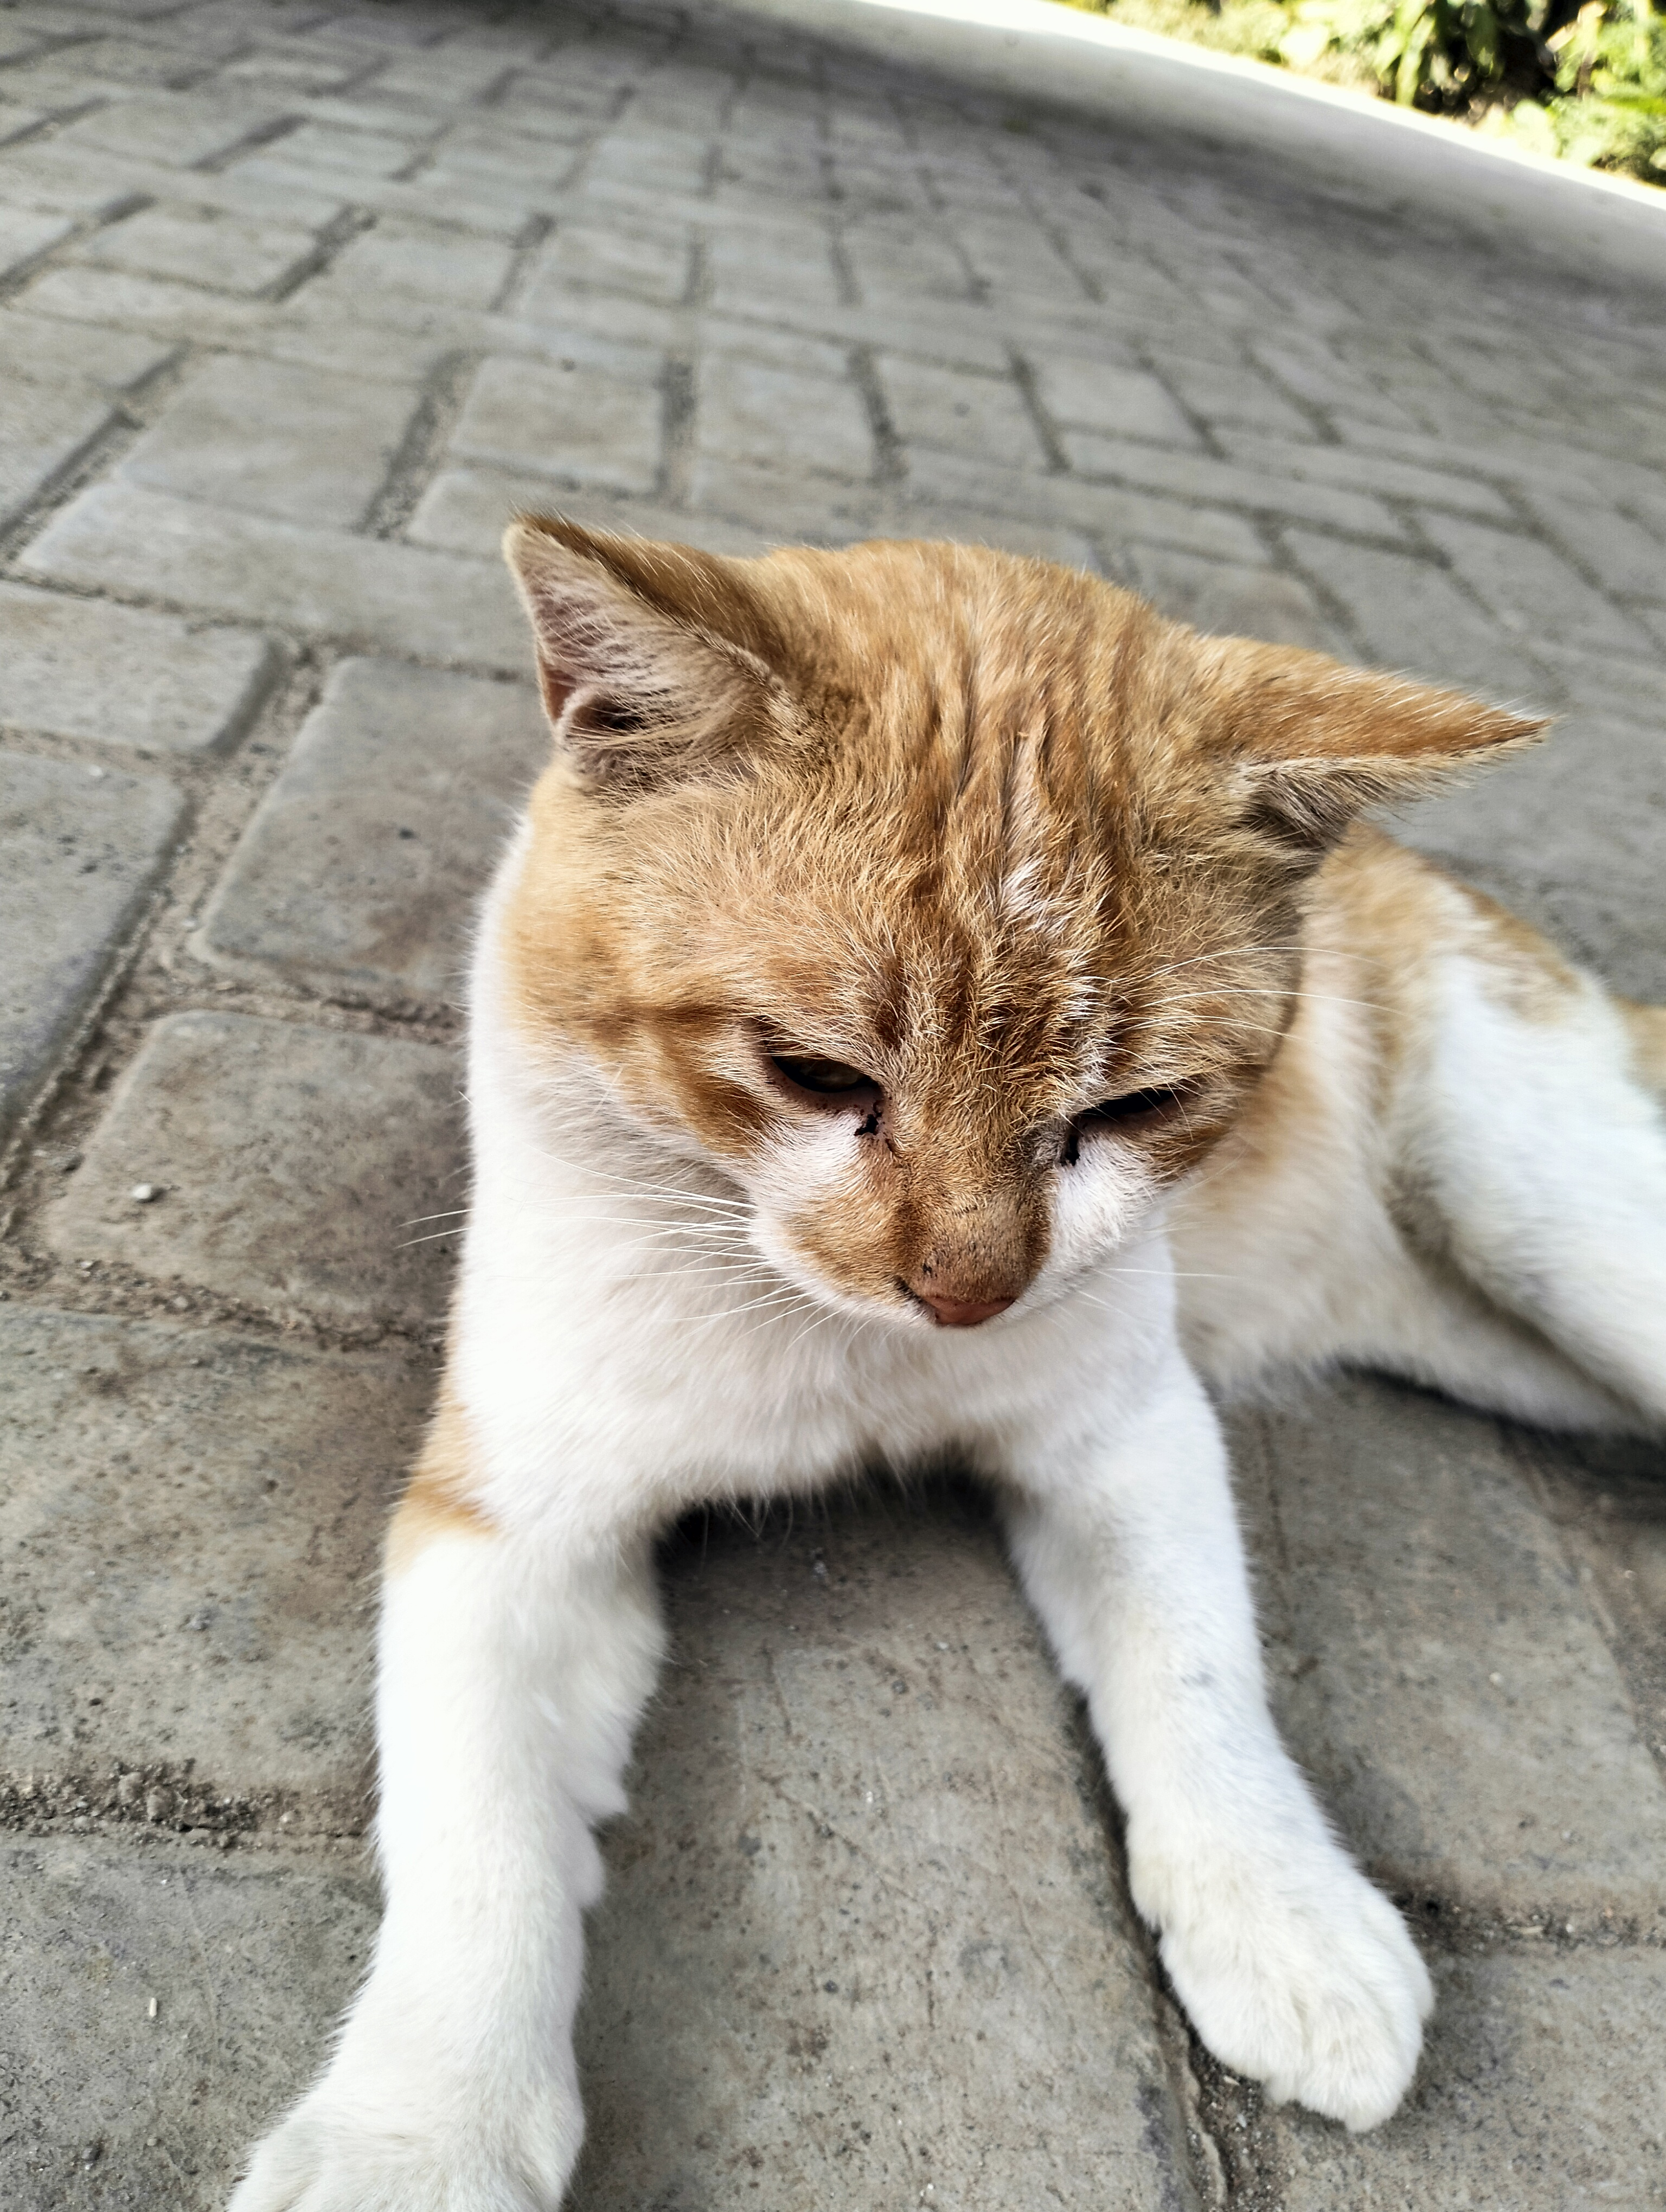oyen: (455, 446, 1601, 1395)
